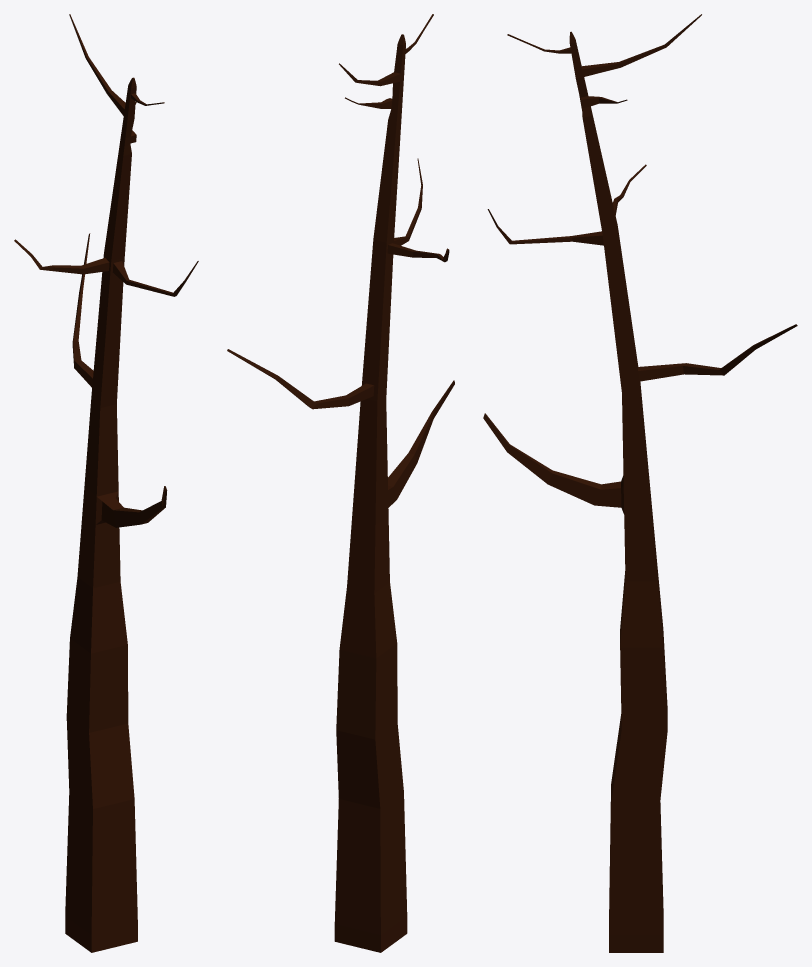
File: arvoreseca.FBX
3 views of the same model, side by side, from view 1: azimuth 30°, elevation 25°; view 2: azimuth 150°, elevation 25°; view 3: azimuth 270°, elevation 25° (orthographic). The views are drawn at different scales.
Parts seen in each view (by area): view 1: Box002; view 2: Box002; view 3: Box002.
Boxes of the visible parts, x1,y1,x2,y2 form: Box002: [14, 14, 198, 952]; Box002: [227, 14, 454, 952]; Box002: [483, 14, 797, 952].
Size of the model in its own units: 12.93 by 74.61 by 22.94.
